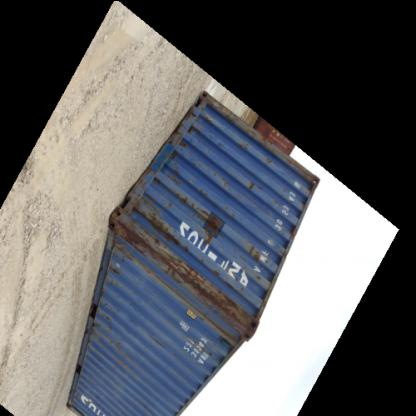Damage: (113, 194, 256, 346), (174, 186, 229, 236), (236, 138, 280, 168), (172, 123, 202, 157), (242, 239, 274, 269), (242, 178, 264, 192)
